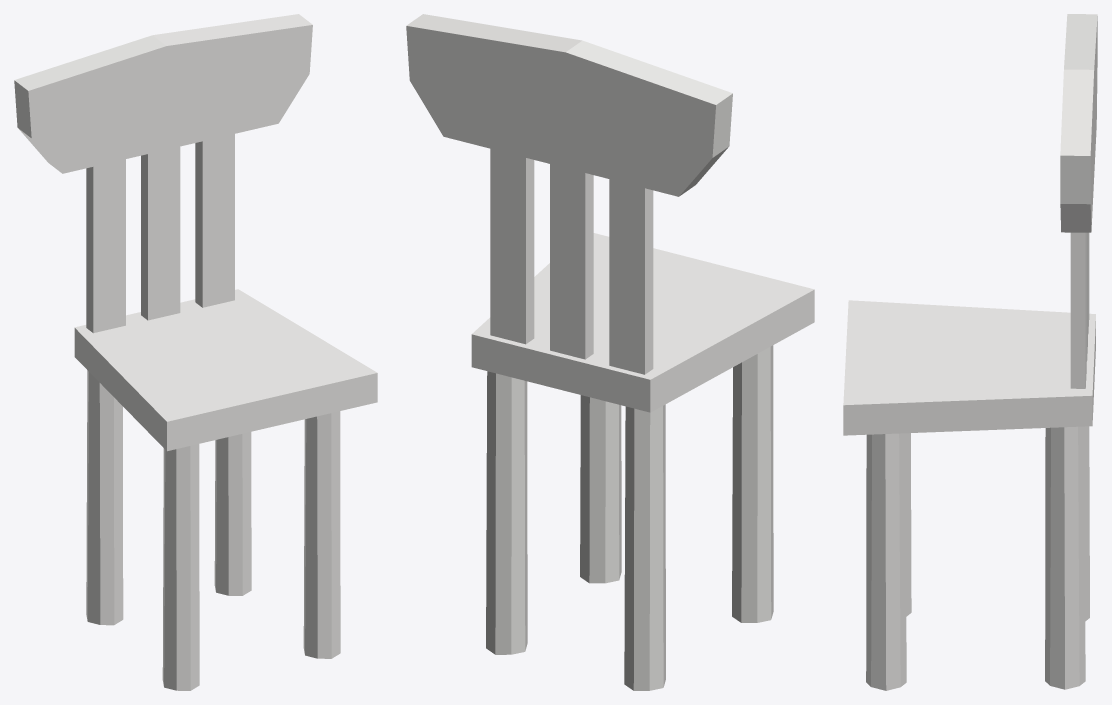
File: Chair_10.fbx
3 views of the same model, side by side, from view 1: azimuth 30°, elevation 25°; view 2: azimuth 150°, elevation 25°; view 3: azimuth 270°, elevation 25° (orthographic). The views are drawn at different scales.
Parts seen in each view (by area): view 1: Chair_10; view 2: Chair_10; view 3: Chair_10.
Part boxes in pixels (x1,y1,x2,y2): Chair_10: [14, 14, 377, 690]; Chair_10: [406, 14, 814, 690]; Chair_10: [843, 14, 1097, 690].
Size of the model in its own units: 69.19 by 52.36 by 131.
